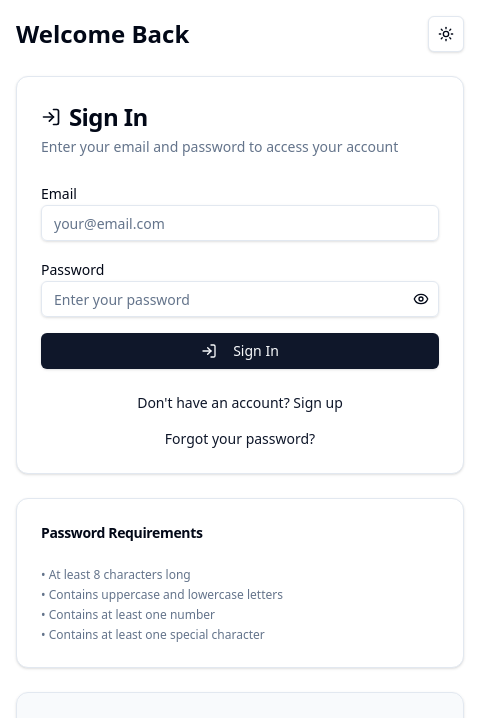
Test: Login Page › shows error for invalid credentials
This screenshot has width=481, height=718.
In the field with placeholder "your@email.com": [240, 223] box [41, 205, 439, 241], type "invalid@email.com"
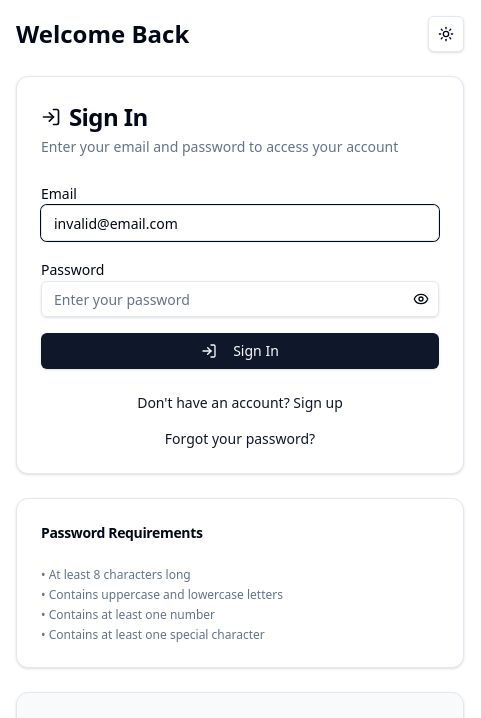
In the password field with placeholder "Enter your password": [240, 299] box [41, 281, 439, 317], type "wrongpassword"
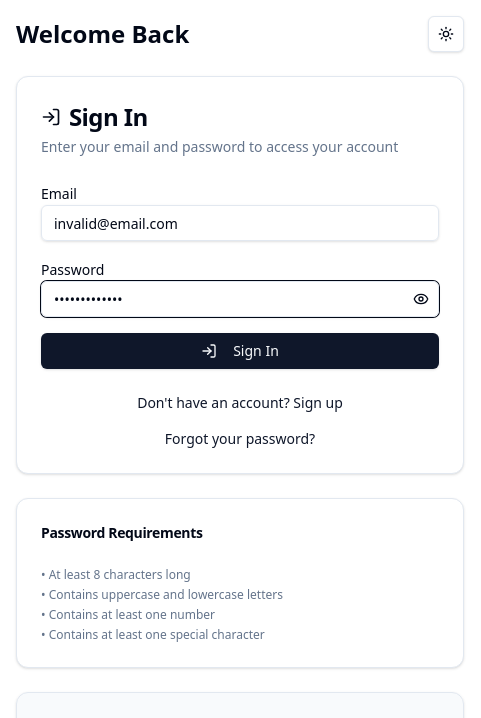
Click the button "Sign In": [240, 351] box [41, 333, 439, 369]
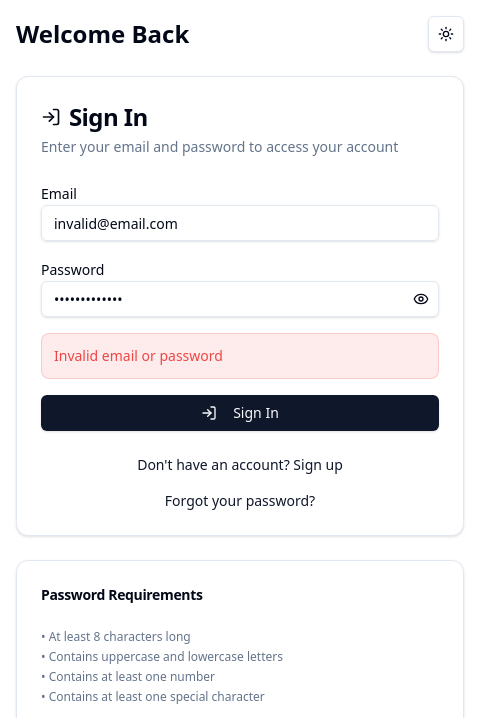
Expected: the text "Invalid email or password" is shown, [54, 346, 223, 365]
